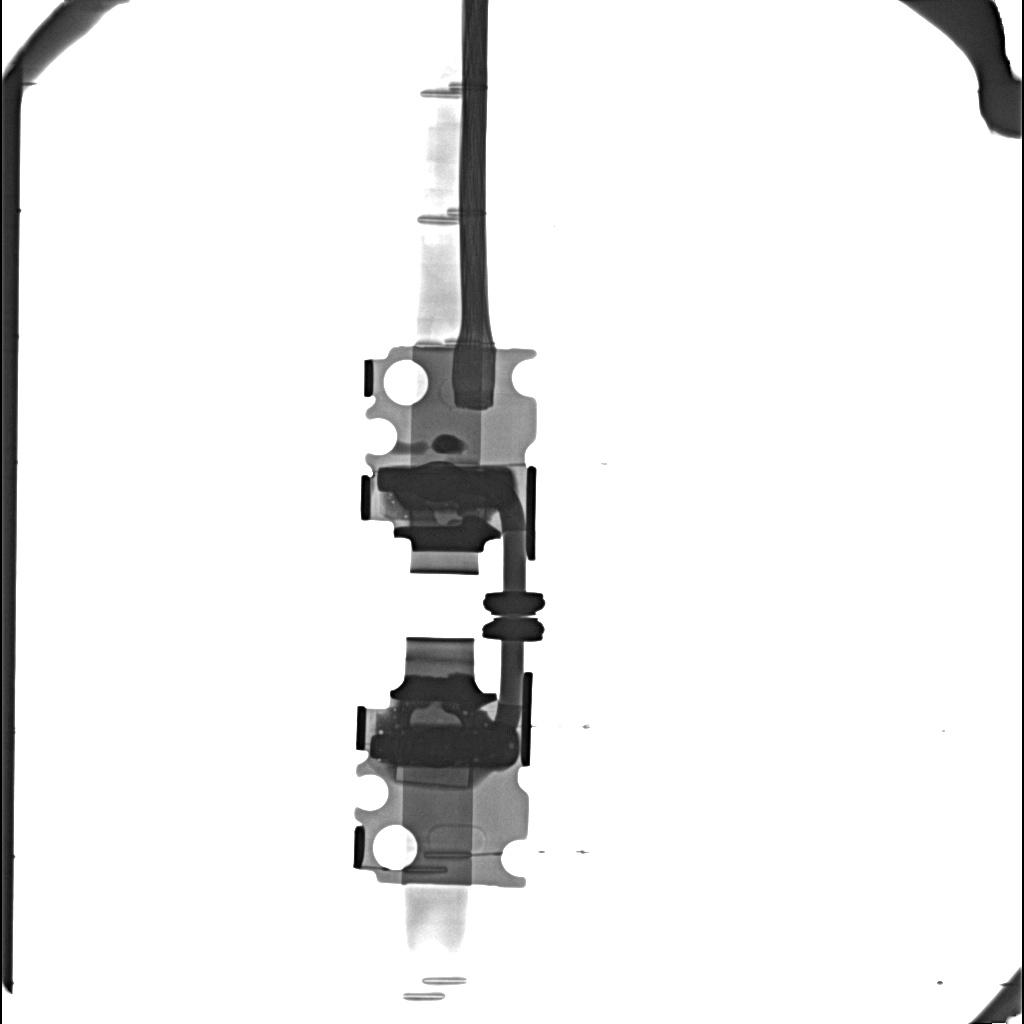气孔: (393, 767, 472, 789)
气泡: (410, 703, 461, 726), (433, 512, 463, 527)
水纹: (389, 467, 512, 511), (392, 725, 517, 767)
